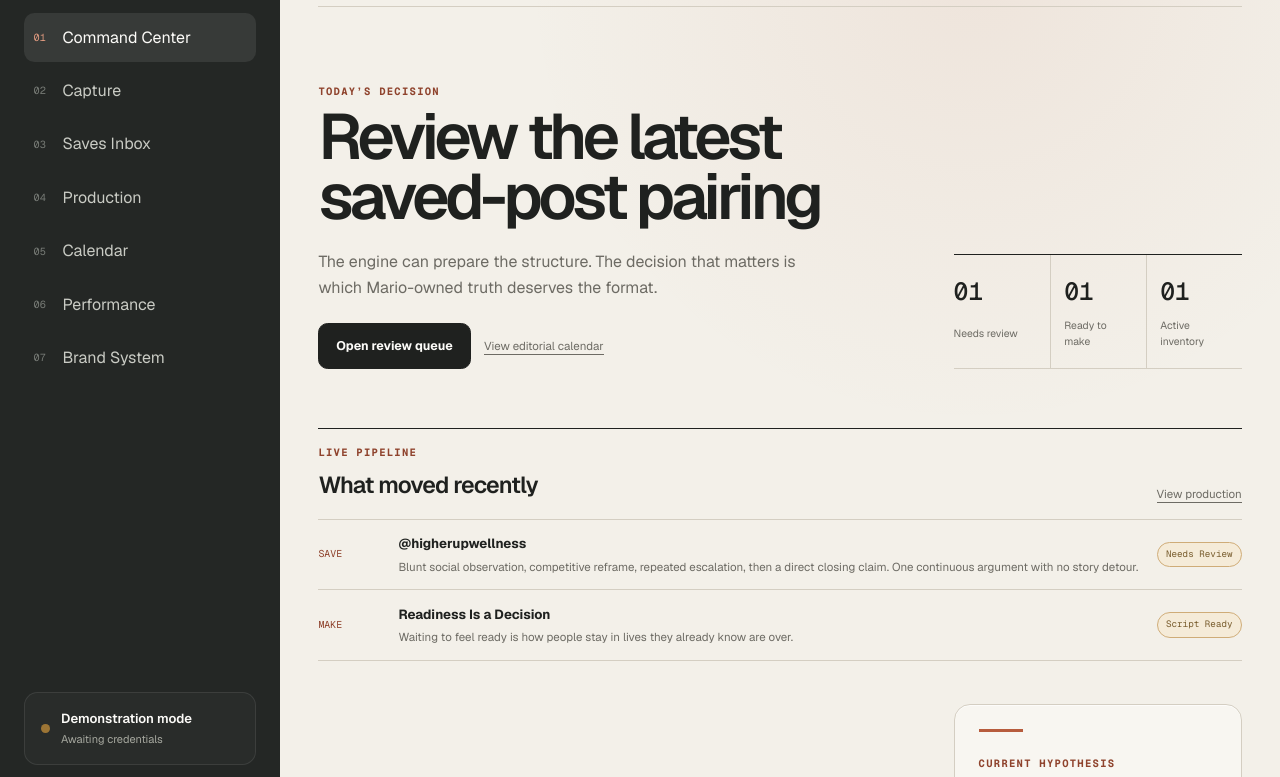
Test: Production package instructions › distinguishes recorded lines, visual text, prompts, and internal notes
Click the button "04 Production". click: (140, 198)
box: [24,173,256,222]
(page scrolled)
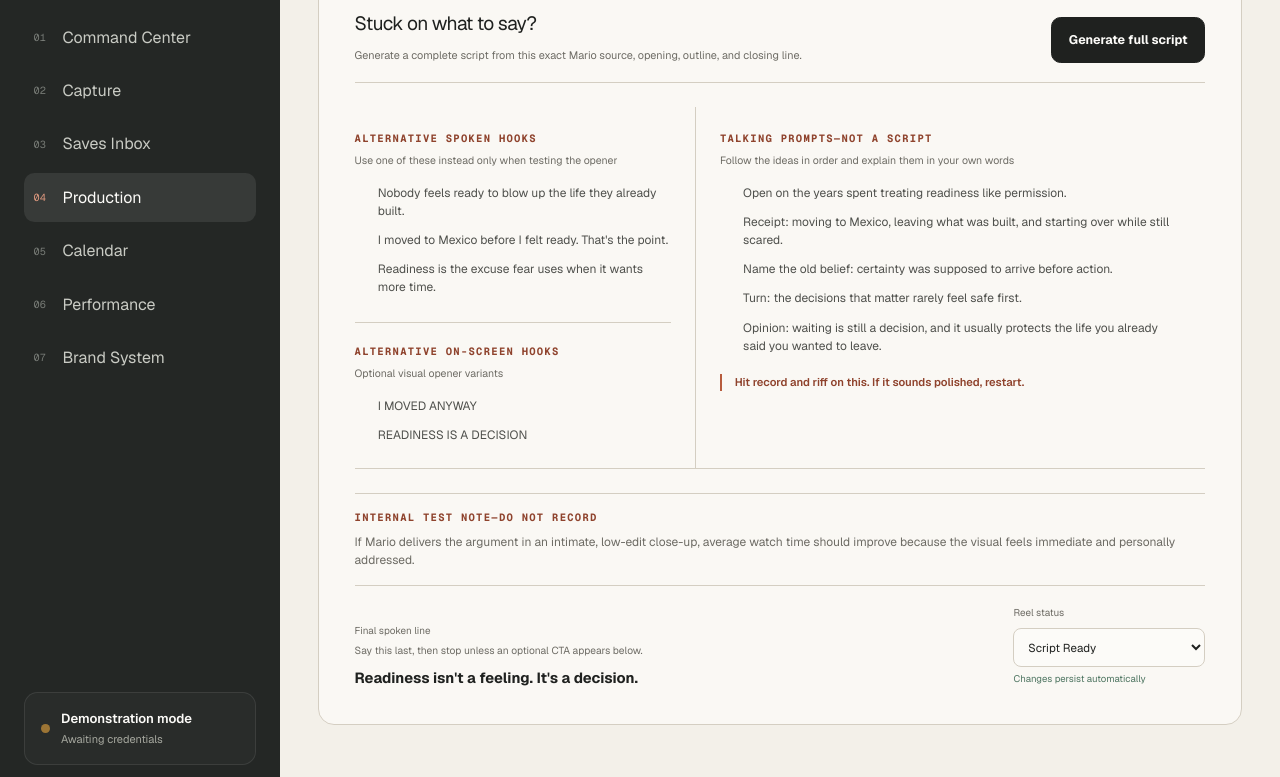
expect the text "Alternative spoken hooks" is shown: met, box [355,131,537,145]
expect the text "Alternative on-screen hooks" is shown: met, box [355,344,560,358]
expect the text "Talking prompts—not a script" is shown: met, box [720,131,933,145]
